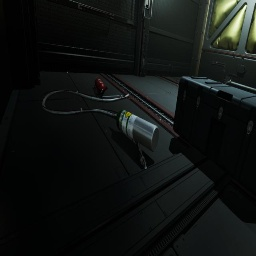0: (112, 110, 159, 152)
FireExtinguisher ]: (94, 77, 108, 95)
